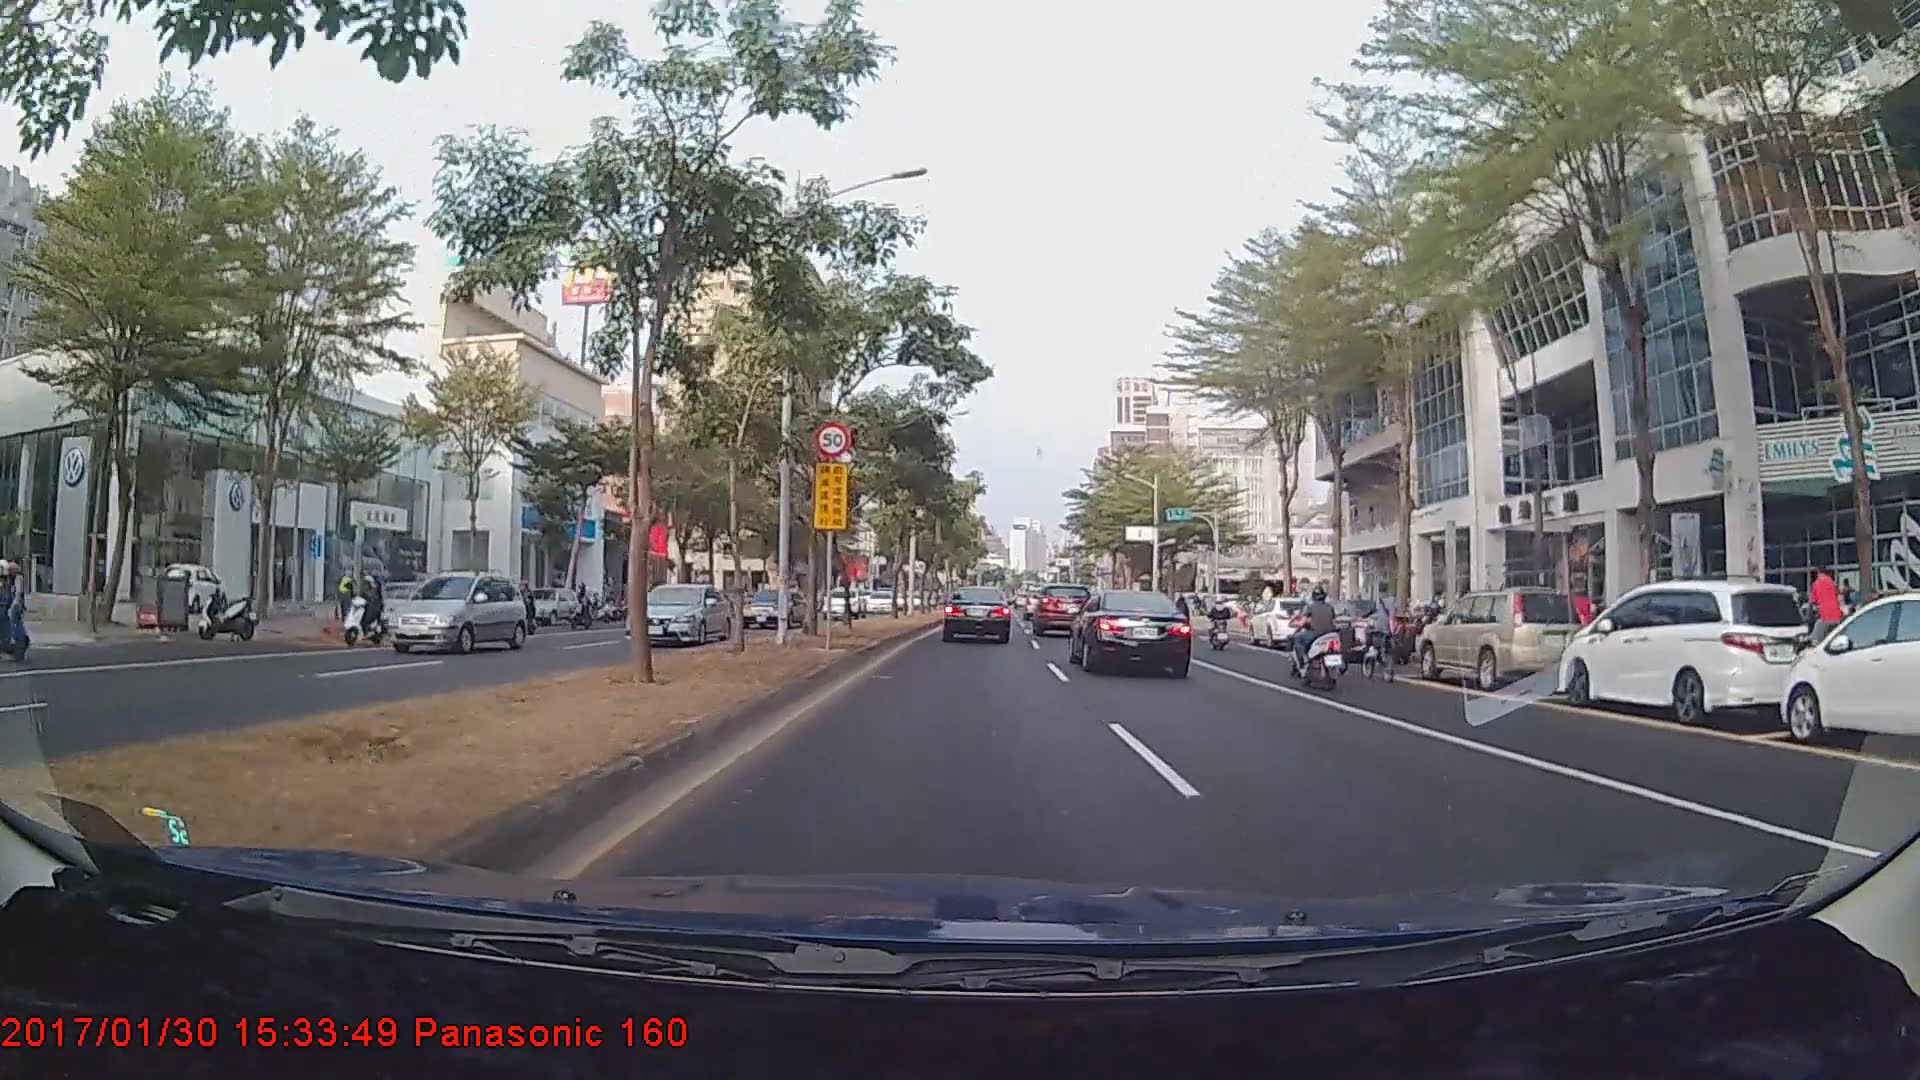rider: (1279, 582, 1355, 692), (1359, 579, 1405, 682), (340, 565, 388, 649), (1, 557, 39, 656), (1201, 594, 1236, 650)
vehicle: (1556, 577, 1812, 726), (1710, 590, 1920, 763), (1416, 590, 1584, 688), (383, 565, 531, 654), (1071, 584, 1193, 677), (1297, 597, 1409, 664), (622, 581, 733, 647), (1250, 592, 1327, 648), (942, 584, 1012, 644), (1028, 583, 1086, 636), (735, 586, 804, 628), (516, 586, 581, 623), (821, 582, 865, 617)
